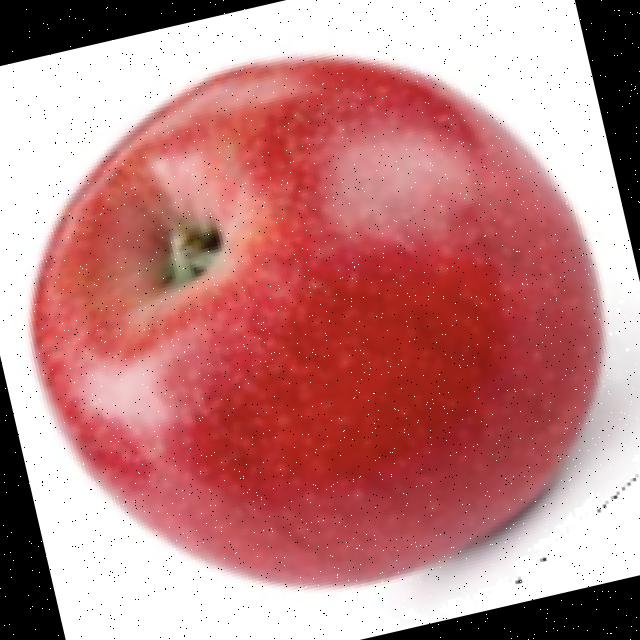apple: (19, 45, 640, 623)
